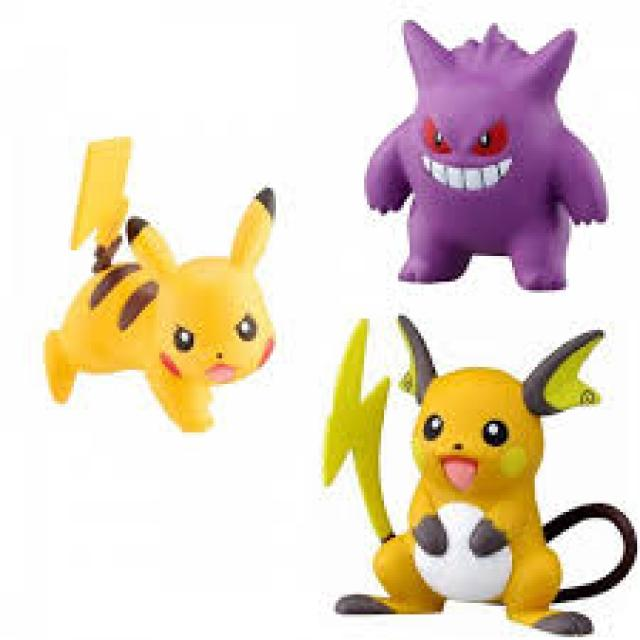Gengar: (383, 17, 582, 288)
Pikachu: (44, 213, 276, 415)
Raichu: (384, 353, 566, 616)
